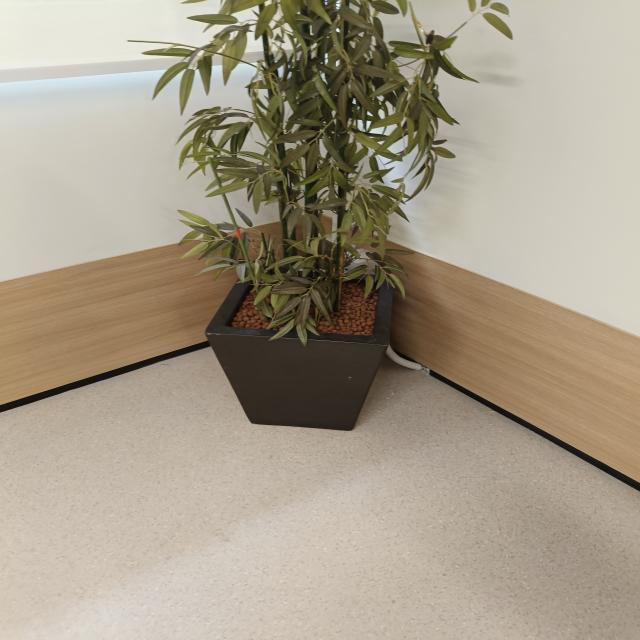Pot: (205, 265, 396, 432)
